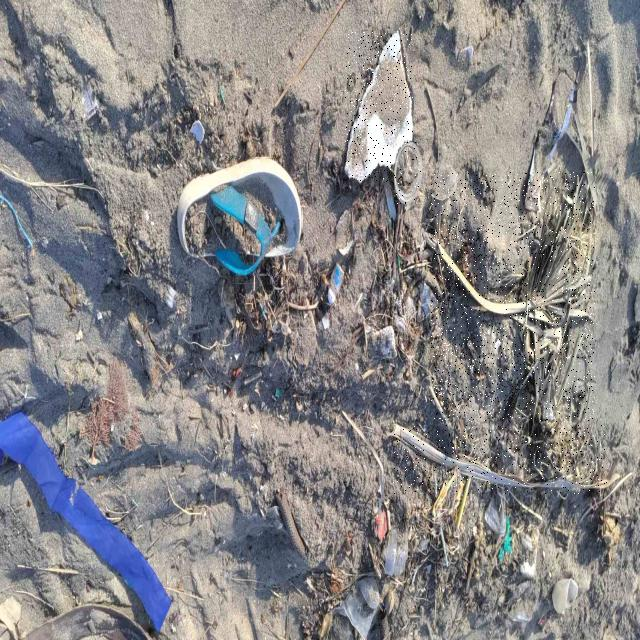biowaste: (431, 172, 595, 421), (393, 425, 607, 494)
other: (178, 158, 302, 275)
plastic: (394, 142, 423, 206)
styrofoam: (345, 32, 413, 181)
